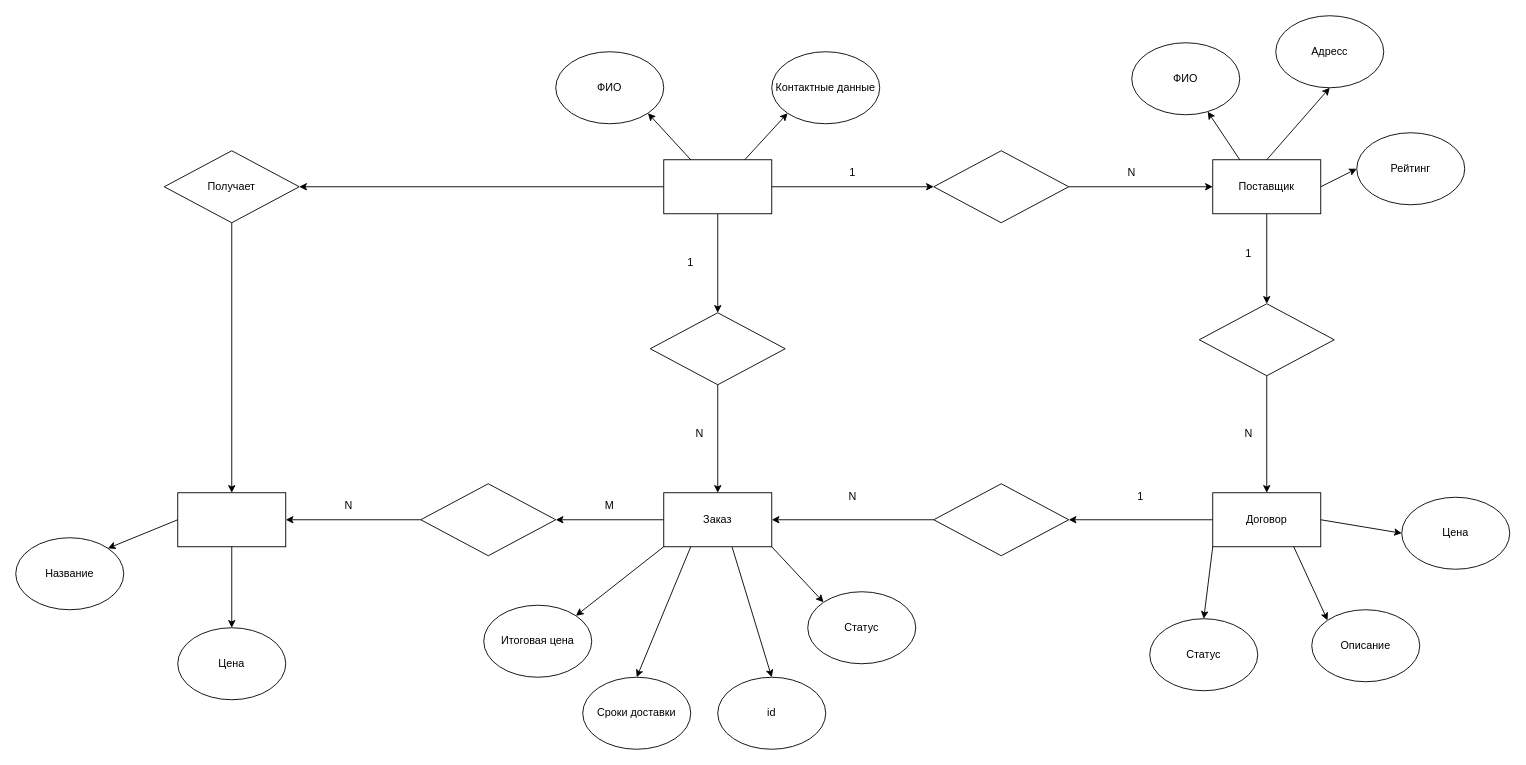
This 1526x765 diagram has some shape labels left out. The box of each missing label's shape, as (x1, y1, x2, y2) in pixels:
Включает в себя: (933, 483, 1069, 556)
Делает: (649, 312, 785, 385)
закупщик: (663, 159, 772, 214)
Заявка на закуп: (933, 150, 1069, 223)
Оформляет: (1198, 303, 1334, 376)
Содержит: (420, 483, 556, 556)
Товар: (177, 492, 286, 547)
